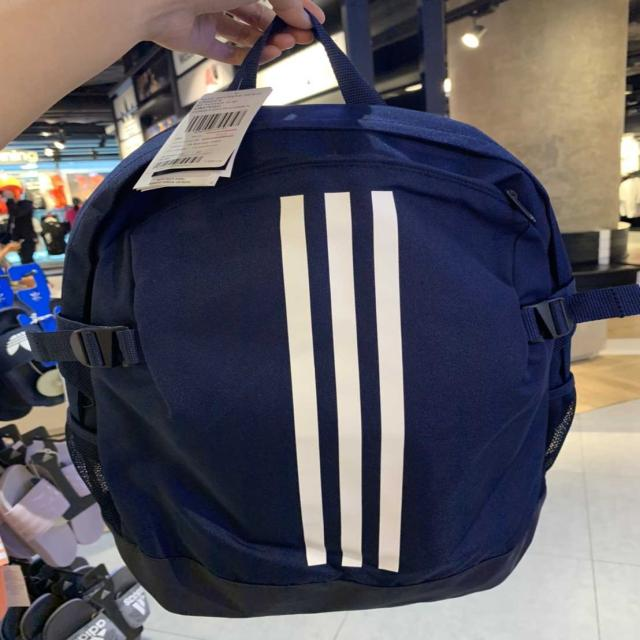Handbag: (56, 93, 580, 621)
